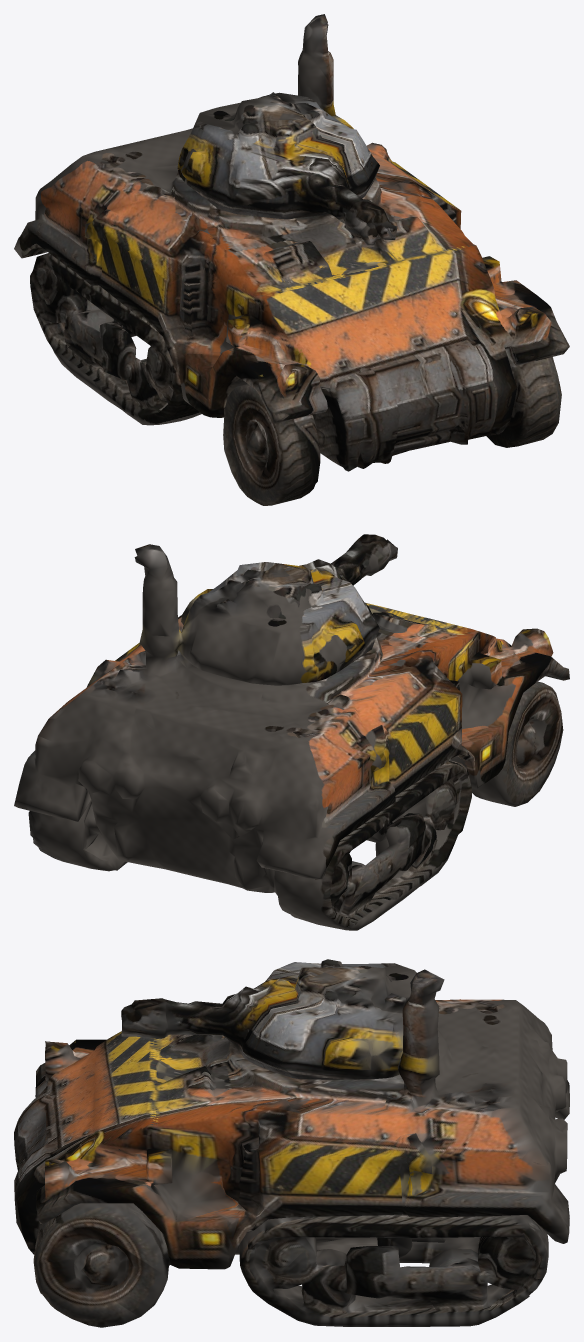
The model's file is grinder_lod1.glb.
The picture shows the model from 3 angles, top to bottom: view 1: azimuth 30°, elevation 25°; view 2: azimuth 150°, elevation 25°; view 3: azimuth 270°, elevation 25°; orthographic projection. The views are drawn at different scales.
Parts seen in each view (by area): view 1: geometry_0; view 2: geometry_0; view 3: geometry_0.
Part boxes in pixels (x1,y1,x2,y2): geometry_0: (14,14,569,505); geometry_0: (14,534,569,930); geometry_0: (14,959,569,1327).
Size of the model in its own units: 1.32 by 1.3 by 1.99.
1 material, 1 textured.
